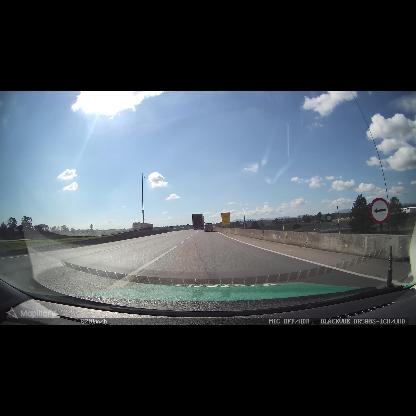R-24a: (370, 197, 390, 223)
